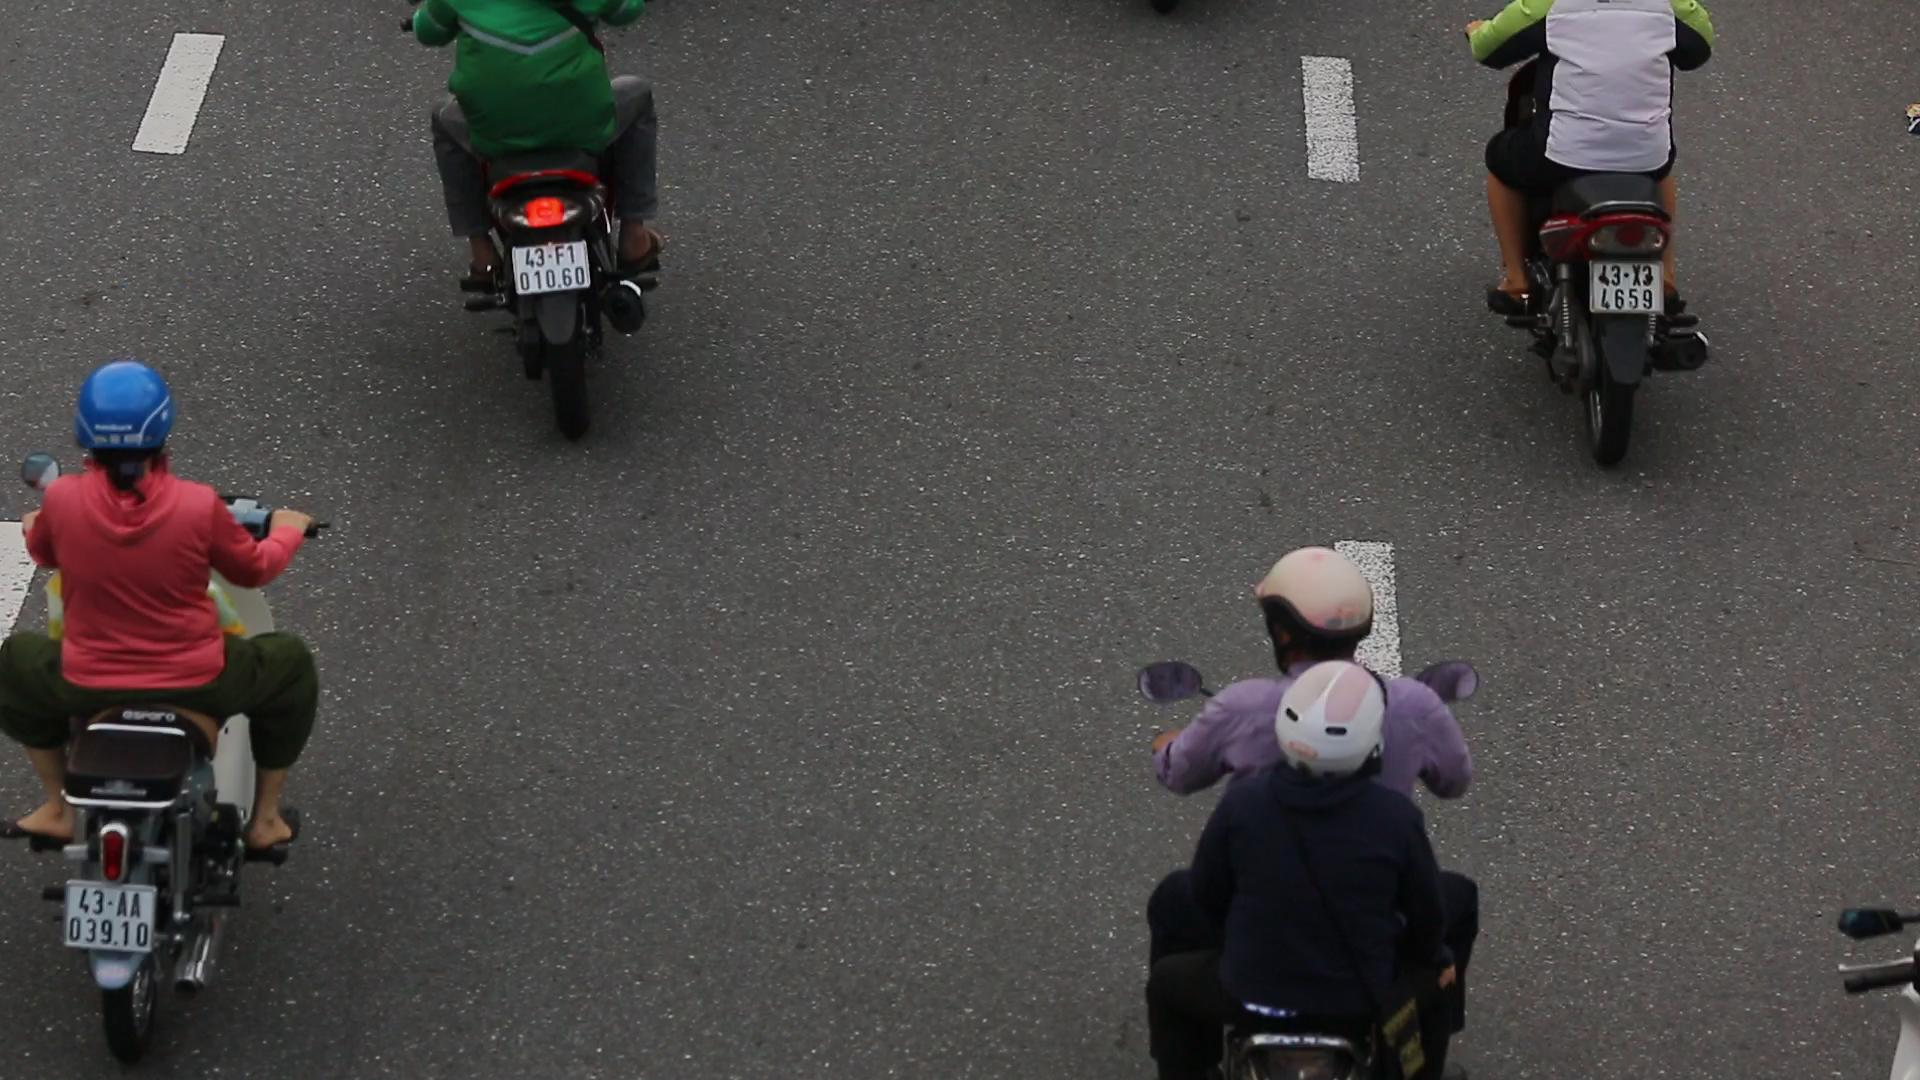motobike: (1, 344, 335, 1060)
